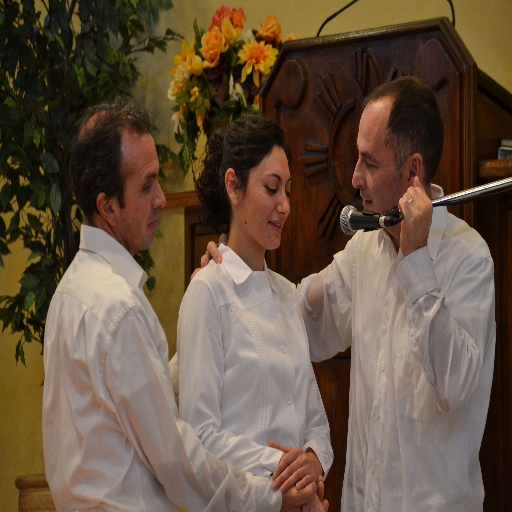hand: (269, 431, 337, 507), (396, 175, 433, 257), (188, 231, 229, 281), (281, 474, 328, 511), (291, 490, 324, 511)
